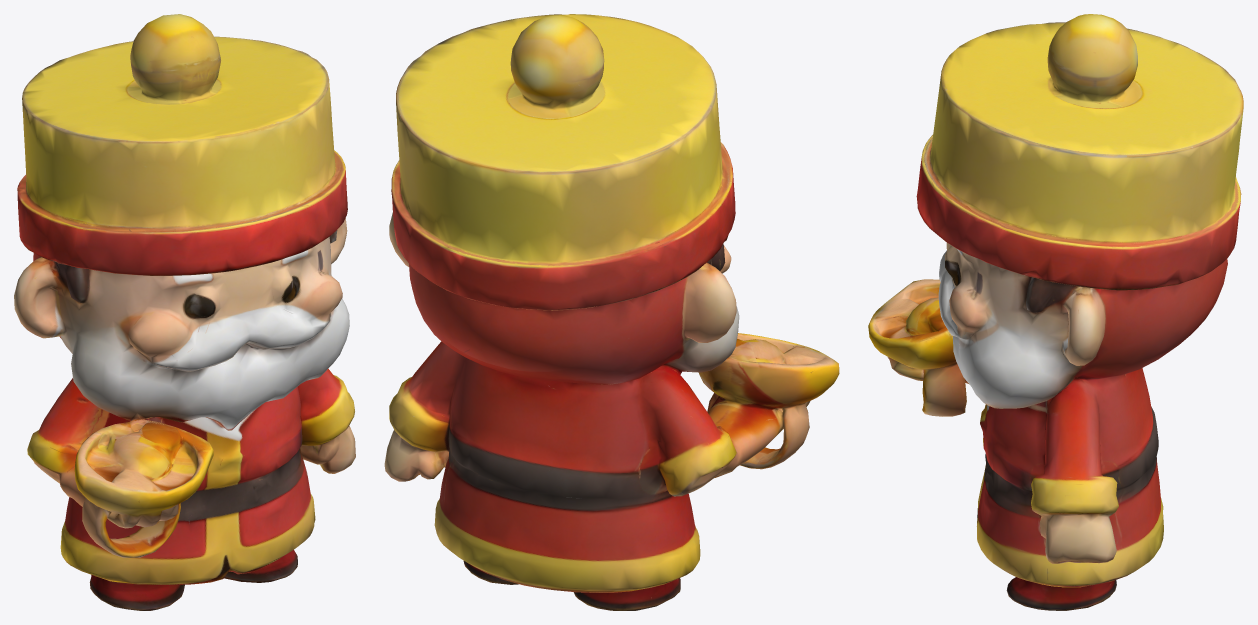
Rendered from Spring.glb.
3 renders of one model, left to right at view 1: azimuth 30°, elevation 25°; view 2: azimuth 150°, elevation 25°; view 3: azimuth 270°, elevation 25°, orthographic. The views are drawn at different scales.
Bounding box in the file's own units: 1.34 × 2.01 × 1.25.
Materials: 1 (1 with a texture image).
